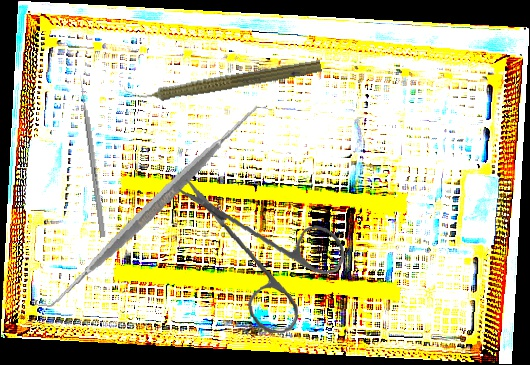Handpiece: (123, 51, 323, 111)
Iris Scissors: (177, 166, 351, 341)
Pusher: (77, 74, 107, 238)
Spatula Surgical: (34, 86, 272, 328)
